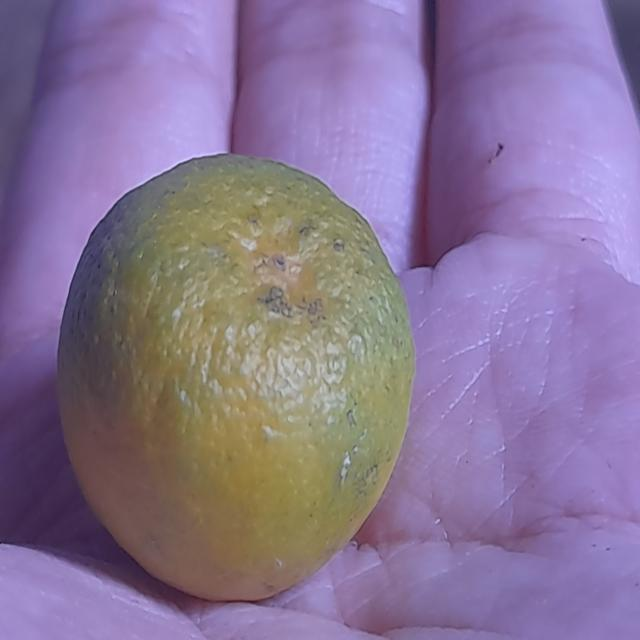greening: (51, 153, 413, 604)
